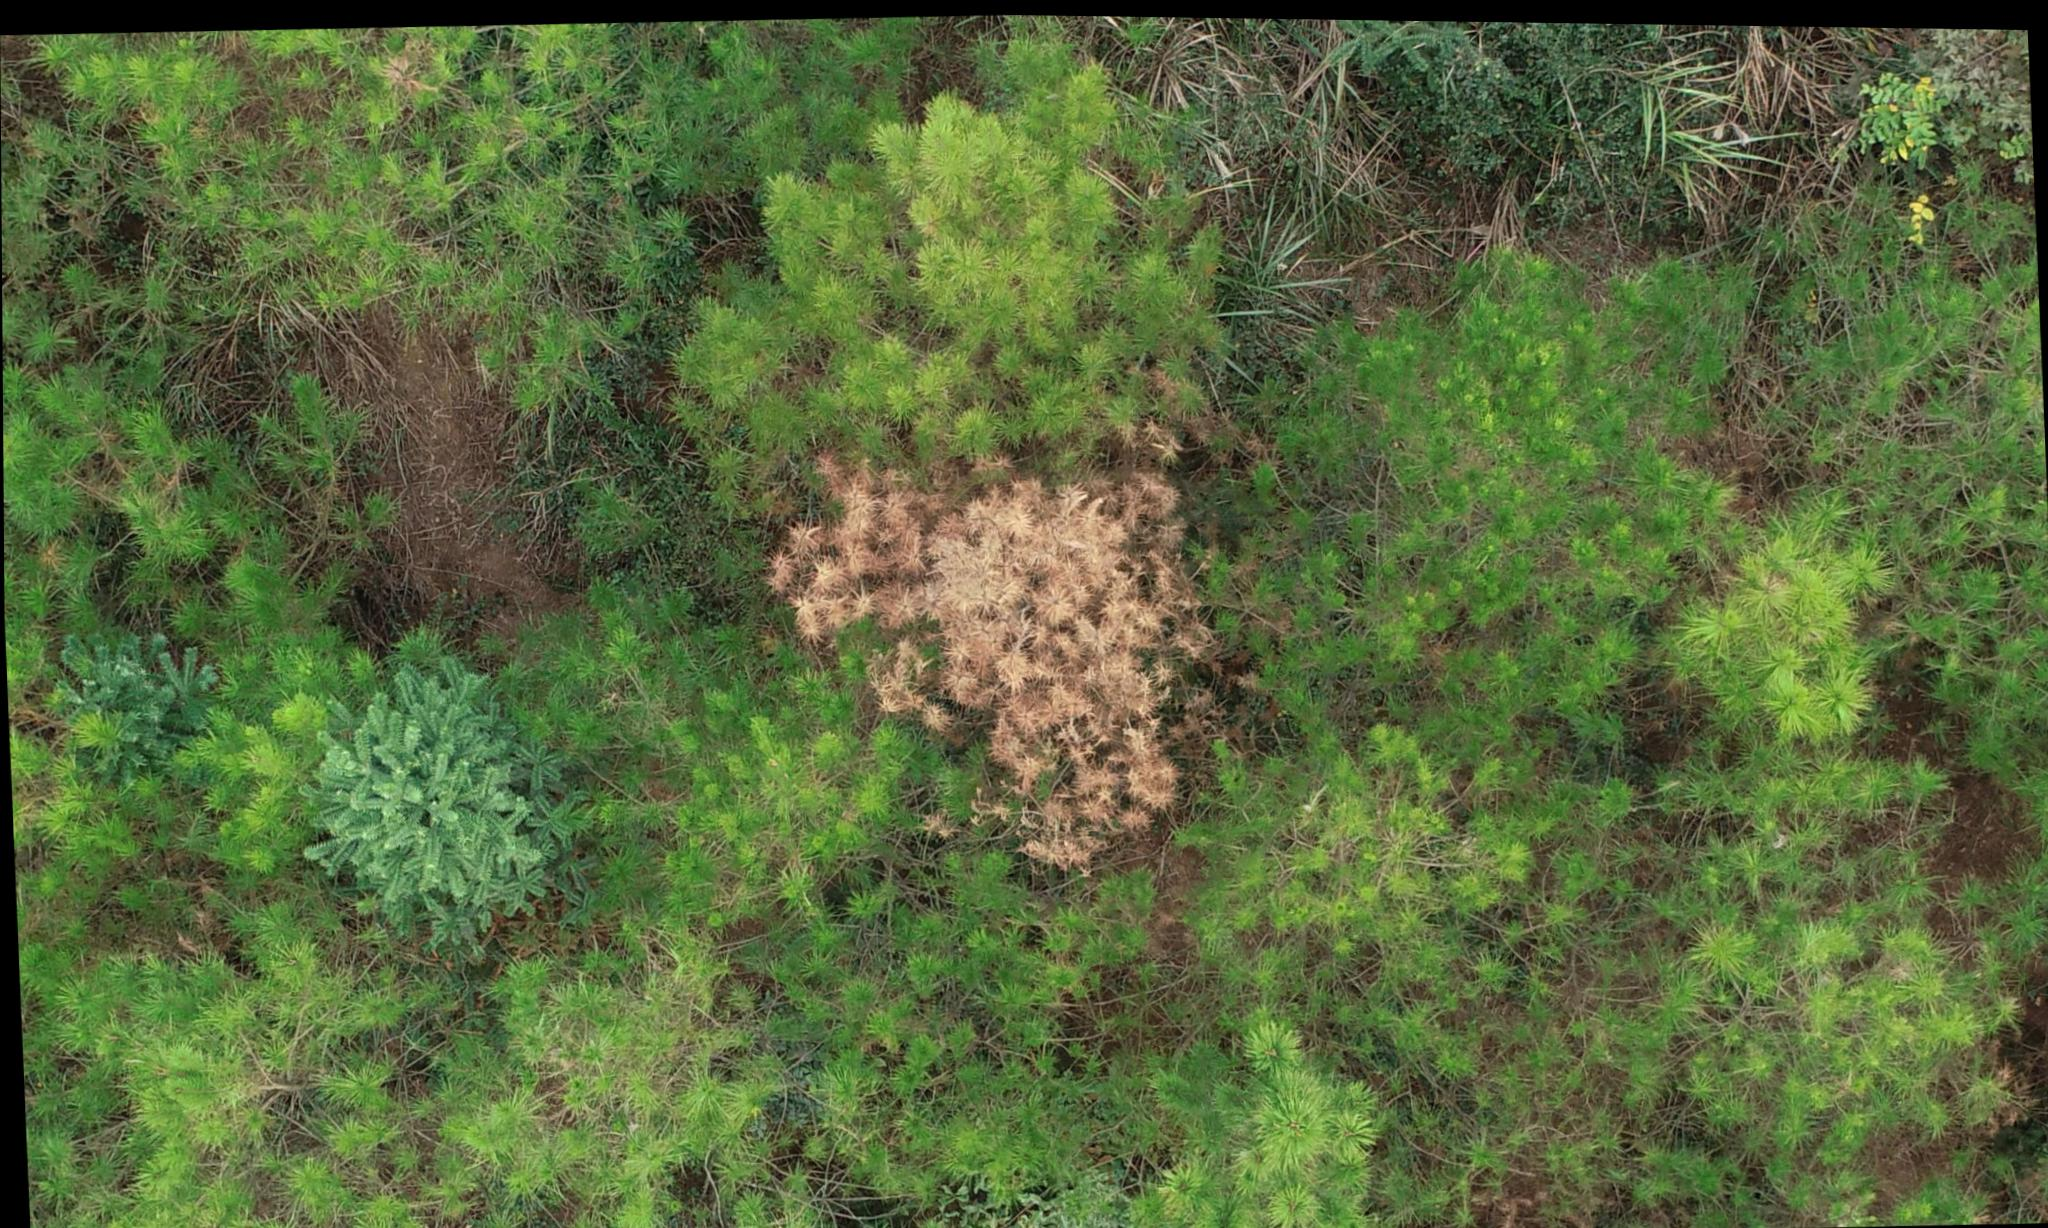heavy: (769, 436, 1226, 886)
